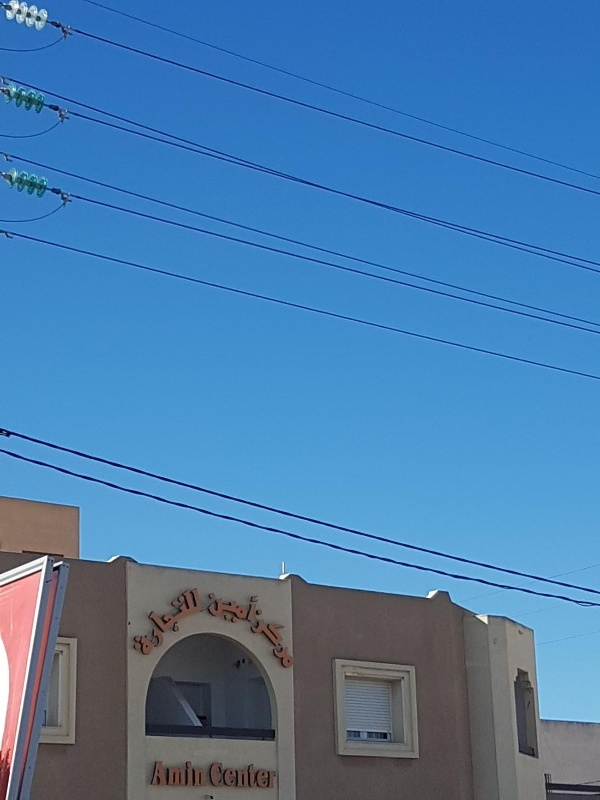text: (129, 580, 144, 661), (145, 580, 160, 661), (161, 580, 176, 661), (177, 580, 192, 661), (273, 598, 288, 672), (289, 598, 304, 672), (119, 580, 128, 661), (193, 580, 202, 661), (209, 592, 224, 627), (225, 592, 240, 627), (241, 592, 256, 627), (265, 598, 272, 672), (225, 763, 240, 789), (241, 763, 256, 789), (257, 763, 272, 789), (161, 761, 176, 786), (177, 761, 192, 786), (210, 763, 224, 789), (193, 761, 206, 786), (257, 592, 262, 627), (273, 763, 277, 789), (156, 761, 160, 786), (305, 598, 306, 672)
